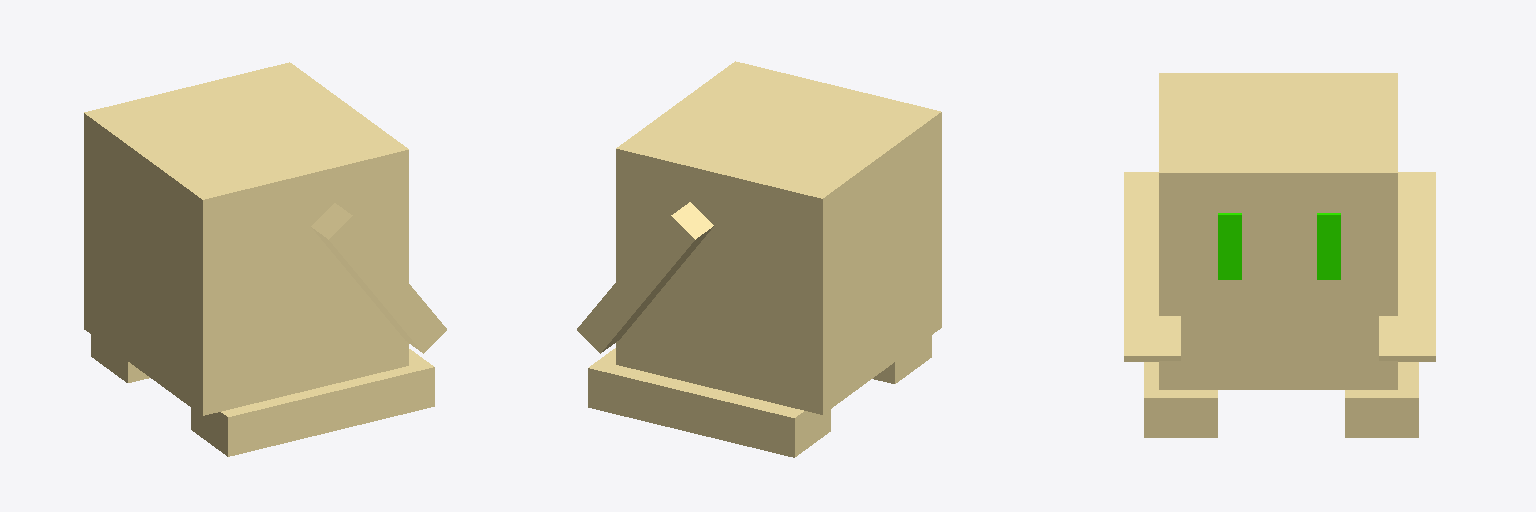
The picture shows the model from 3 angles: view 1: azimuth 30°, elevation 25°; view 2: azimuth 150°, elevation 25°; view 3: azimuth 270°, elevation 25°; orthographic projection.
Visible parts, largest first — view 1: Cube, Cube.001, Cube.004, Cube.002; view 2: Cube, Cube.002, Cube.003, Cube.001; view 3: Cube, Cube.003, Cube.004, Cube.002, Cube.001, Cube.005, Cube.006.
Part boxes in pixels (left/top/right/bottom): Cube: left=84, top=62, right=408, bottom=415; Cube.001: left=191, top=349, right=434, bottom=456; Cube.004: left=311, top=203, right=446, bottom=353; Cube.002: left=91, top=335, right=149, bottom=382; Cube: left=616, top=61, right=941, bottom=414; Cube.002: left=588, top=348, right=830, bottom=457; Cube.003: left=577, top=202, right=713, bottom=353; Cube.001: left=873, top=335, right=931, bottom=383; Cube: left=1159, top=73, right=1397, bottom=389; Cube.003: left=1379, top=172, right=1435, bottom=361; Cube.004: left=1124, top=172, right=1180, bottom=361; Cube.002: left=1345, top=362, right=1418, bottom=437; Cube.001: left=1144, top=362, right=1217, bottom=437; Cube.005: left=1317, top=213, right=1340, bottom=279; Cube.006: left=1218, top=213, right=1241, bottom=279.
Bounding box in the file's own units: 2.2 × 2.37 × 2.62.
Materials: 2 (2 with a texture image).